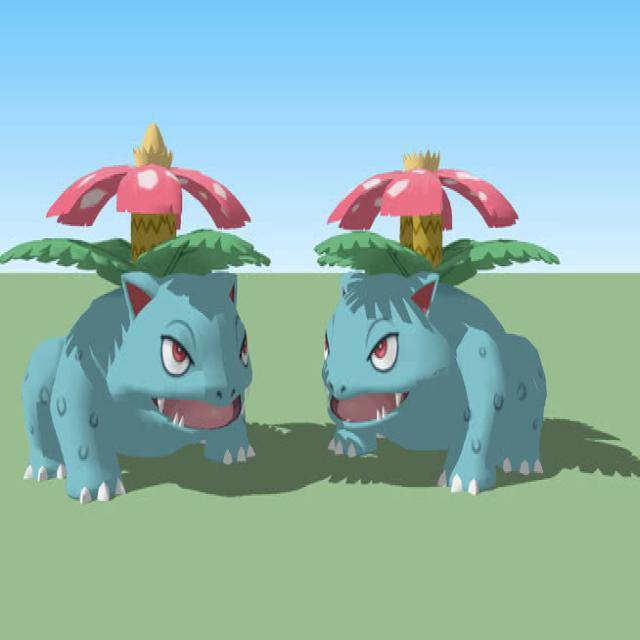Venusaur: (0, 80, 285, 505), (308, 140, 582, 548)
